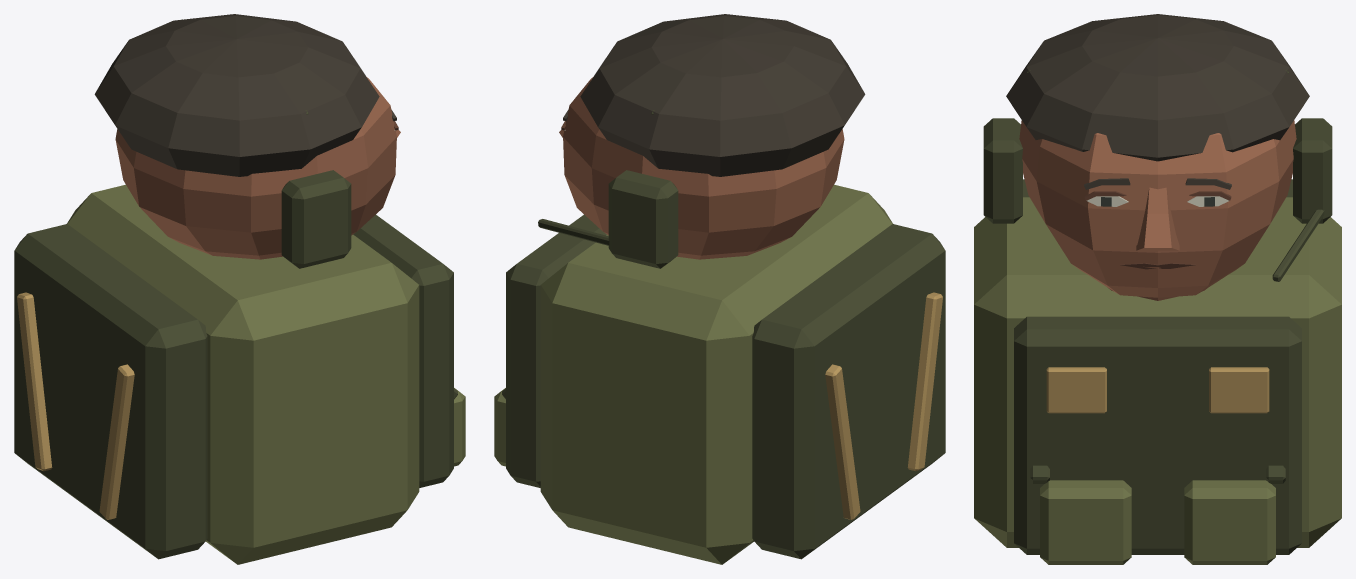
File: ranger-elite.helmet-off.glb
3 views of the same model, side by side, from view 1: azimuth 30°, elevation 25°; view 2: azimuth 150°, elevation 25°; view 3: azimuth 270°, elevation 25° (orthographic). The views are drawn at different scales.
Parts seen in each view (by area): view 1: ranger-elite_helmet-off__main__torso_finish_6c7147_0.03, ranger-elite_helmet-off__main__torso_finish_464a31_0.03, ranger-elite_helmet-off__main__head_finish_403a31_0.03, ranger-elite_helmet-off__main__head, ranger-elite_helmet-off__main__head_finish_464a31_0.03, ranger-elite_helmet-off__main__torso_finish_b3945b_0.03; view 2: ranger-elite_helmet-off__main__torso_finish_6c7147_0.03, ranger-elite_helmet-off__main__torso_finish_464a31_0.03, ranger-elite_helmet-off__main__head_finish_403a31_0.03, ranger-elite_helmet-off__main__head, ranger-elite_helmet-off__main__head_finish_464a31_0.03, ranger-elite_helmet-off__main__torso_finish_b3945b_0.03; view 3: ranger-elite_helmet-off__main__torso_finish_6c7147_0.03, ranger-elite_helmet-off__main__torso_finish_464a31_0.03, ranger-elite_helmet-off__main__head_finish_403a31_0.03, ranger-elite_helmet-off__main__head, ranger-elite_helmet-off__main__head_finish_464a31_0.03, ranger-elite_helmet-off__main__torso_finish_b3945b_0.03.
Part boxes in pixels (left/top/right/bottom): ranger-elite_helmet-off__main__torso_finish_6c7147_0.03: left=67, top=184, right=465, bottom=564; ranger-elite_helmet-off__main__torso_finish_464a31_0.03: left=14, top=214, right=457, bottom=559; ranger-elite_helmet-off__main__head_finish_403a31_0.03: left=94, top=14, right=379, bottom=176; ranger-elite_helmet-off__main__head: left=115, top=76, right=400, bottom=259; ranger-elite_helmet-off__main__head_finish_464a31_0.03: left=182, top=19, right=351, bottom=268; ranger-elite_helmet-off__main__torso_finish_b3945b_0.03: left=17, top=292, right=134, bottom=519; ranger-elite_helmet-off__main__torso_finish_6c7147_0.03: left=494, top=184, right=892, bottom=564; ranger-elite_helmet-off__main__torso_finish_464a31_0.03: left=502, top=214, right=945, bottom=559; ranger-elite_helmet-off__main__head_finish_403a31_0.03: left=580, top=14, right=865, bottom=176; ranger-elite_helmet-off__main__head: left=559, top=76, right=844, bottom=259; ranger-elite_helmet-off__main__head_finish_464a31_0.03: left=538, top=19, right=777, bottom=268; ranger-elite_helmet-off__main__torso_finish_b3945b_0.03: left=825, top=292, right=942, bottom=519; ranger-elite_helmet-off__main__torso_finish_6c7147_0.03: left=974, top=197, right=1341, bottom=564; ranger-elite_helmet-off__main__torso_finish_464a31_0.03: left=1014, top=179, right=1301, bottom=554; ranger-elite_helmet-off__main__head_finish_403a31_0.03: left=1006, top=14, right=1309, bottom=161; ranger-elite_helmet-off__main__head: left=1019, top=120, right=1296, bottom=297; ranger-elite_helmet-off__main__head_finish_464a31_0.03: left=983, top=69, right=1332, bottom=281; ranger-elite_helmet-off__main__torso_finish_b3945b_0.03: left=1046, top=367, right=1269, bottom=413.
Bounding box in the file's own units: 31.1 × 39.5 × 28.08.
